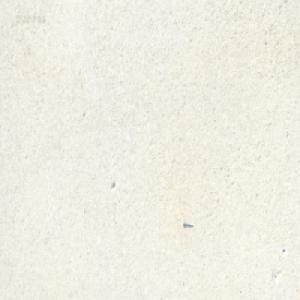Nail: (182, 220, 193, 228)
